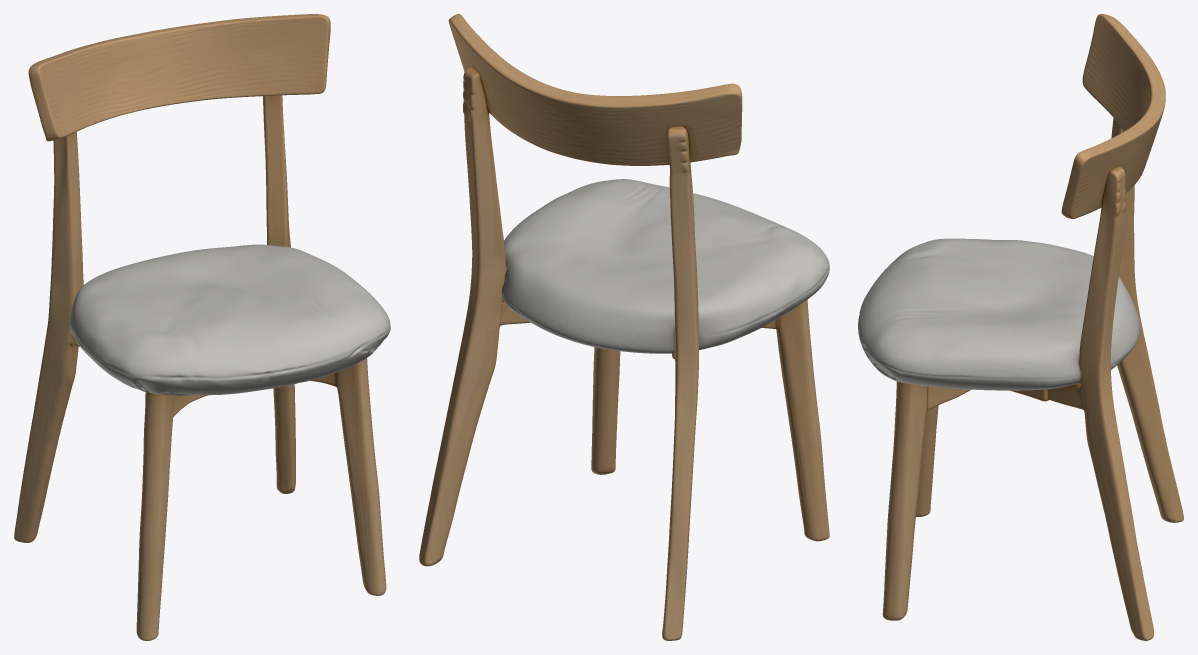
File: Elior Plus.glb
3 renders of one model, left to right at view 1: azimuth 30°, elevation 25°; view 2: azimuth 150°, elevation 25°; view 3: azimuth 270°, elevation 25°, orthographic. The views are drawn at different scales.
Visible parts, largest first — view 1: tripo_node_02ce1c4e-bfd7-463a-9c48-72214db76cbb; view 2: tripo_node_02ce1c4e-bfd7-463a-9c48-72214db76cbb; view 3: tripo_node_02ce1c4e-bfd7-463a-9c48-72214db76cbb.
Part boxes in pixels (<box>): tripo_node_02ce1c4e-bfd7-463a-9c48-72214db76cbb: <box>14,14,390,640</box>; tripo_node_02ce1c4e-bfd7-463a-9c48-72214db76cbb: <box>419,14,829,640</box>; tripo_node_02ce1c4e-bfd7-463a-9c48-72214db76cbb: <box>858,14,1183,640</box>.
Bounding box in the file's own units: 0.5857 × 0.9796 × 0.5838.
Materials: 1 (1 with a texture image).
